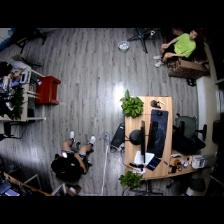normal: (51, 129, 97, 179), (151, 30, 200, 66), (4, 61, 32, 72)
